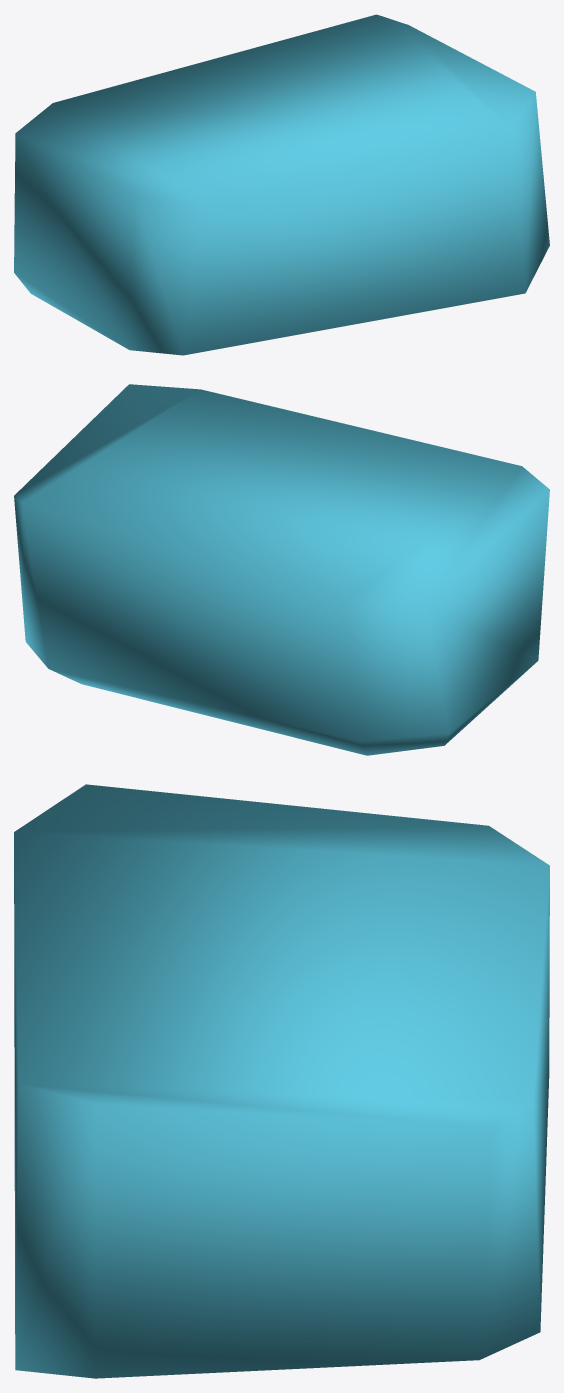
The model's file is stone brick_05.FBX.
3 renders of one model, top to bottom at view 1: azimuth 30°, elevation 25°; view 2: azimuth 150°, elevation 25°; view 3: azimuth 270°, elevation 25°, orthographic. The views are drawn at different scales.
Parts seen in each view (by area): view 1: stone brick_05; view 2: stone brick_05; view 3: stone brick_05.
Part boxes in pixels (bbox=[...]): stone brick_05: bbox=[14, 14, 549, 355]; stone brick_05: bbox=[14, 384, 549, 755]; stone brick_05: bbox=[14, 784, 549, 1378].
Bounding box in the file's own units: 18.59 × 7.59 × 12.03.
